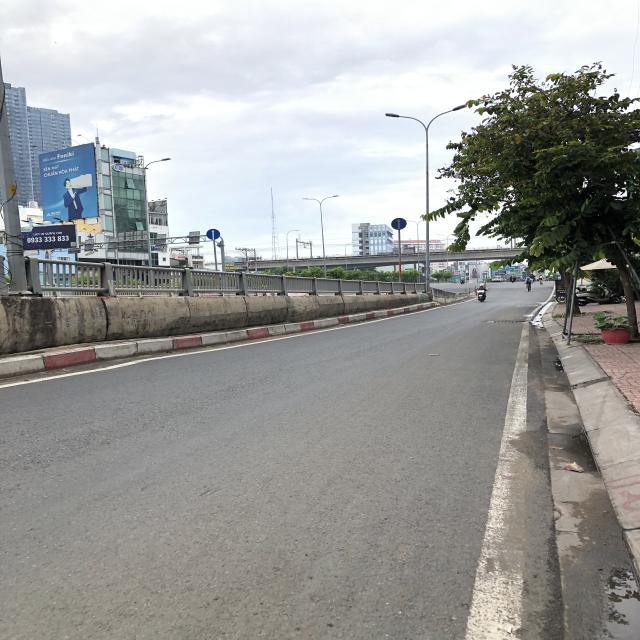Bien bao huong di thang phai theo: (391, 217, 408, 231), (205, 228, 221, 241)
